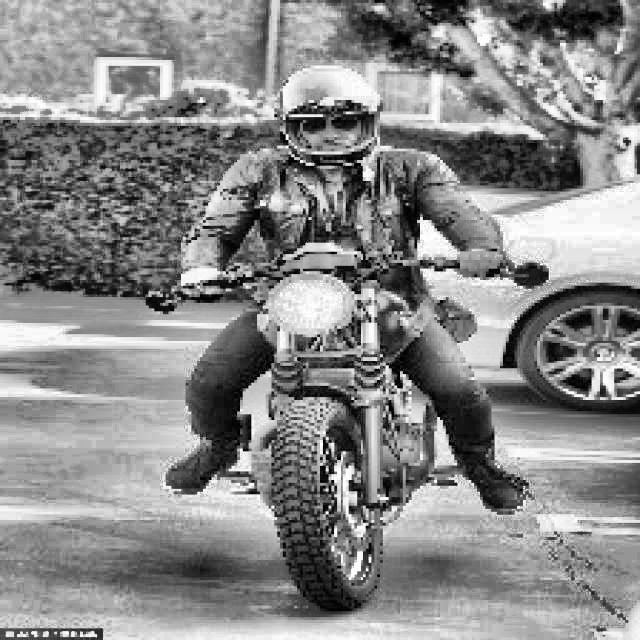motorcycle: (122, 245, 558, 614)
